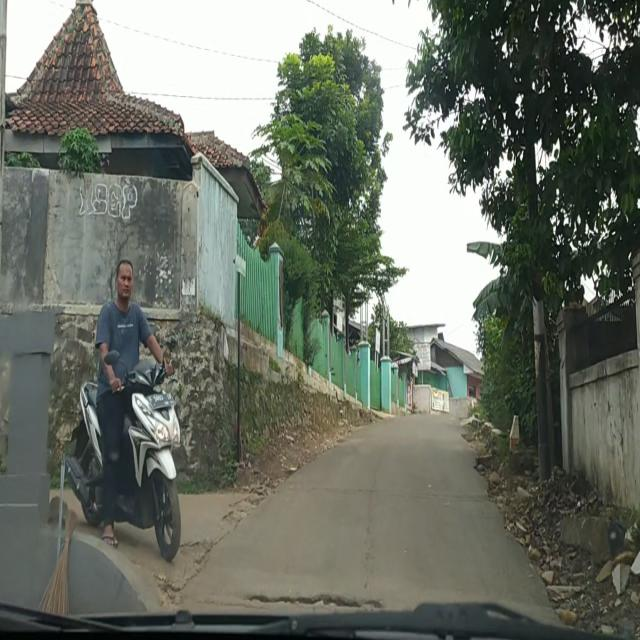Sewer Cover: (242, 591, 382, 611)
